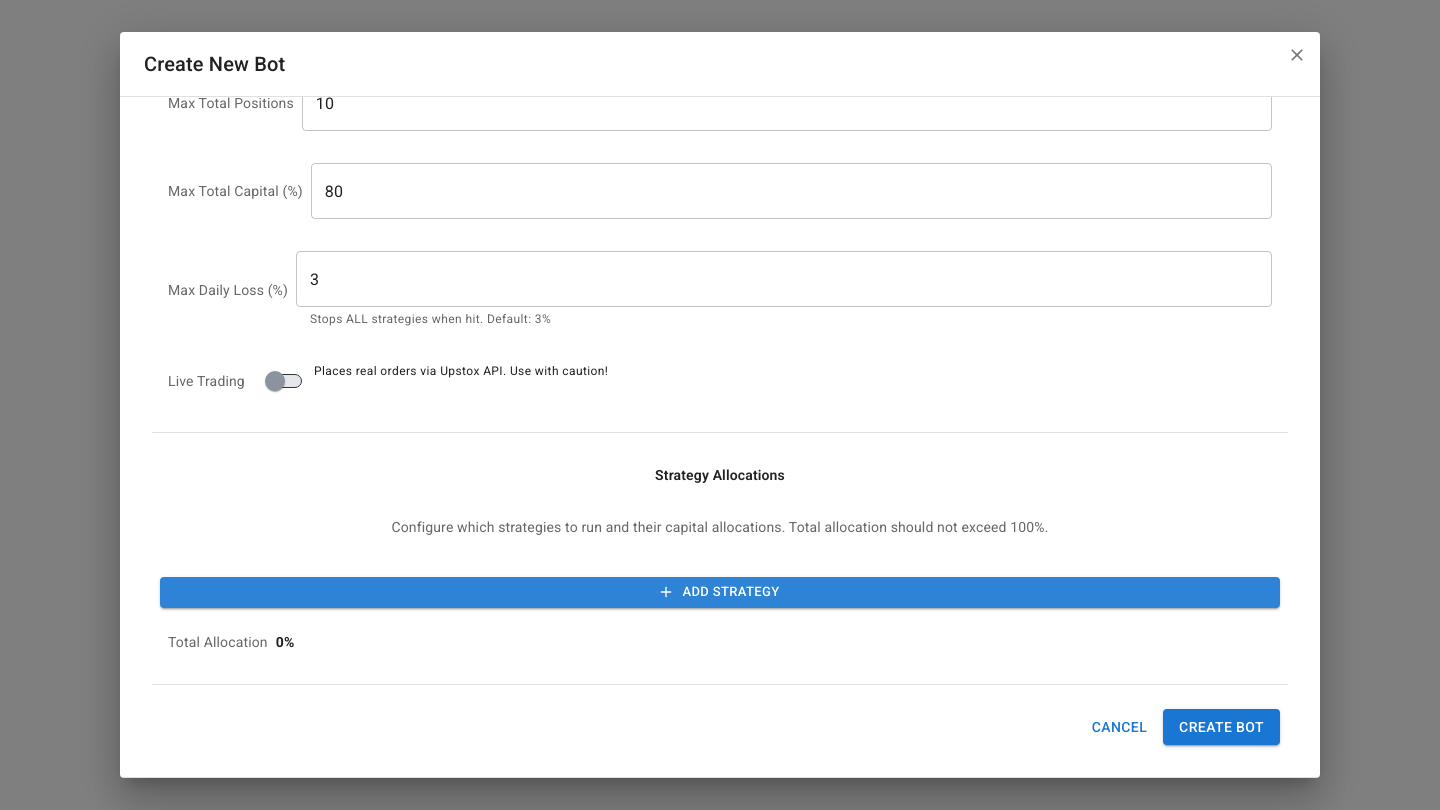
Scenario: BotConfigModal › add strategy button adds a new row
(page scrolled)
Click the button with test id "add-strategy-btn" at point(720, 592), box [160, 577, 1280, 608]
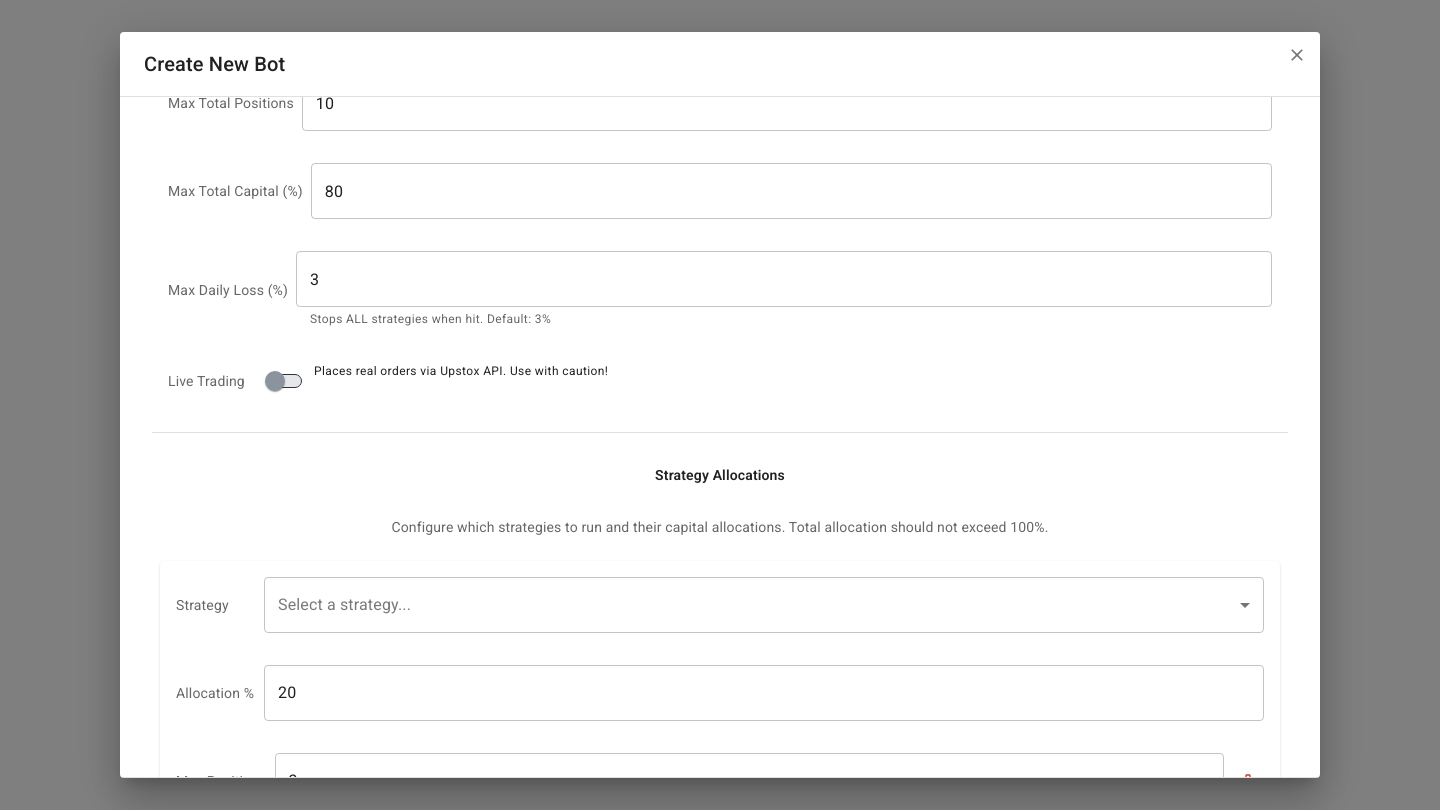
Expected: the number of elements with test id "strategy-allocation-row" is 1, [160, 561, 1280, 778]
